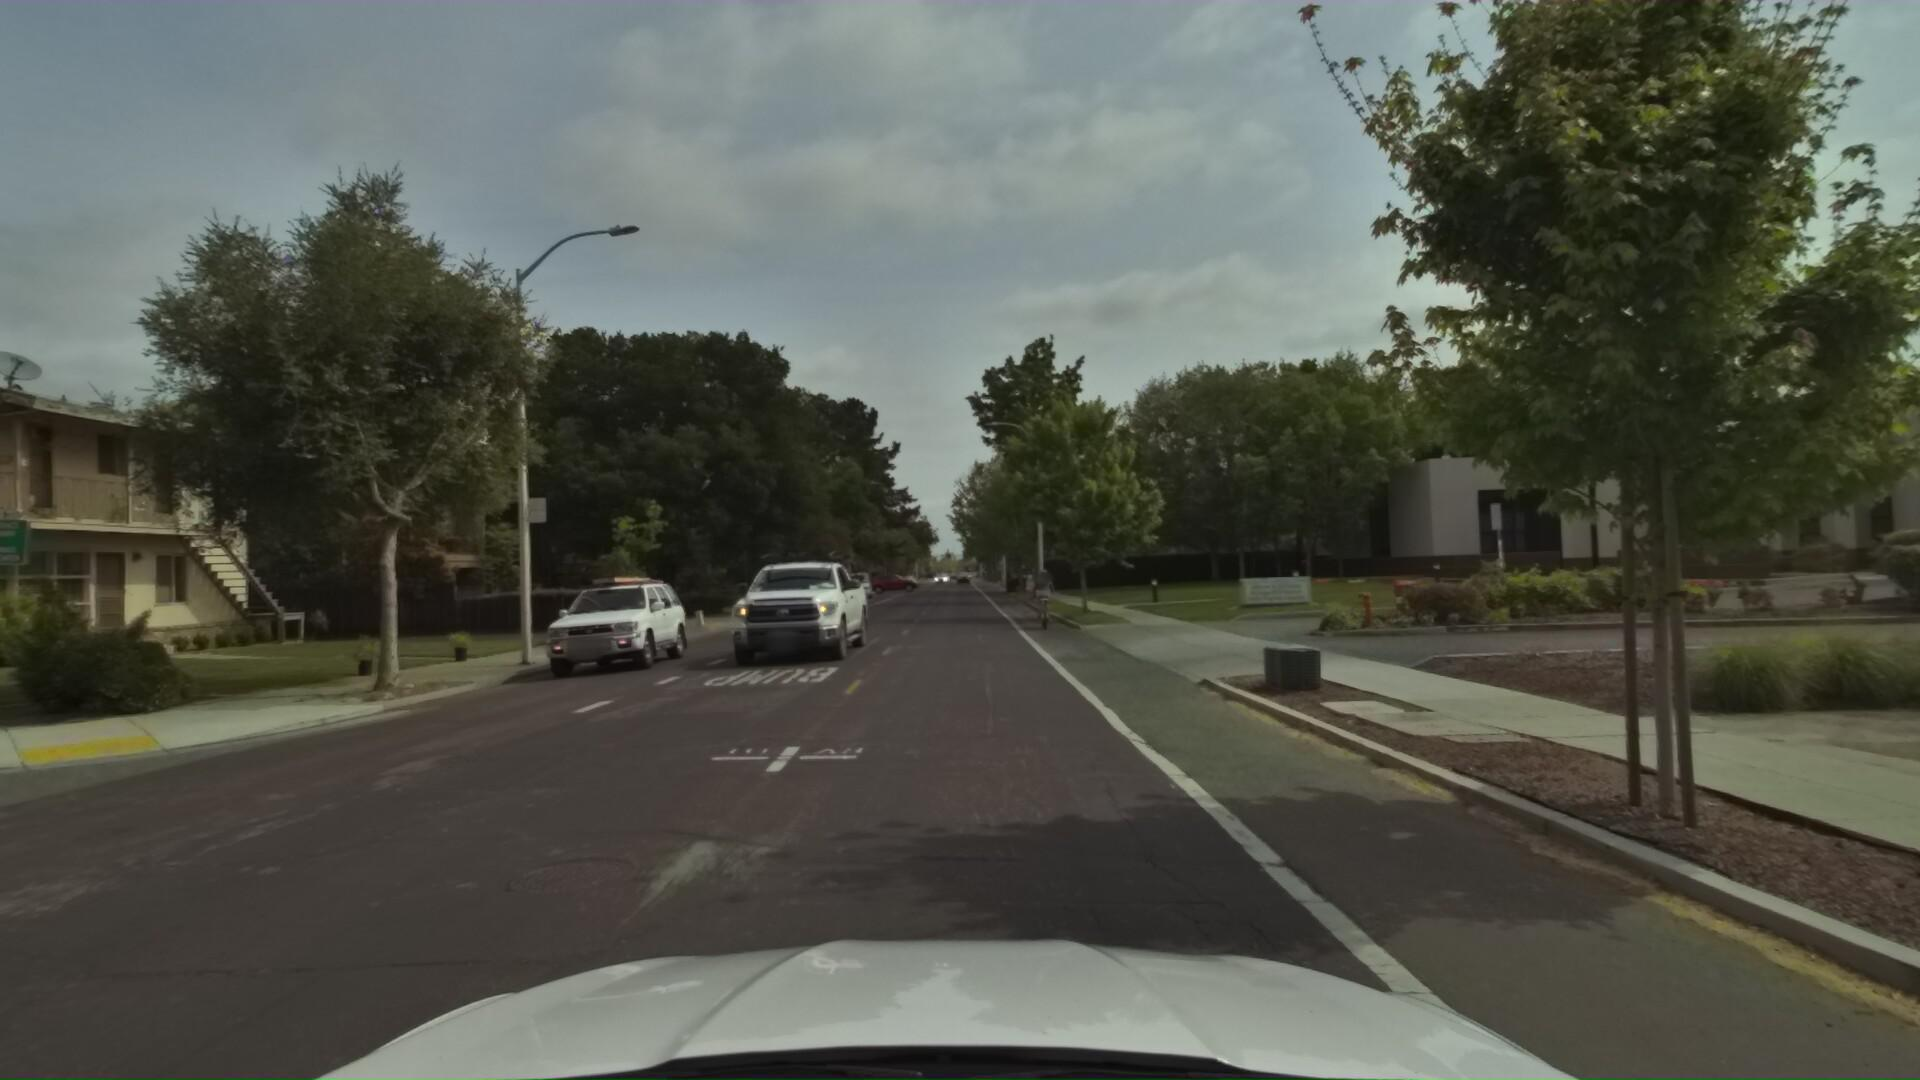bicycle: (1015, 566, 1062, 632)
car: (709, 541, 862, 676), (520, 571, 688, 688), (837, 570, 873, 603)
